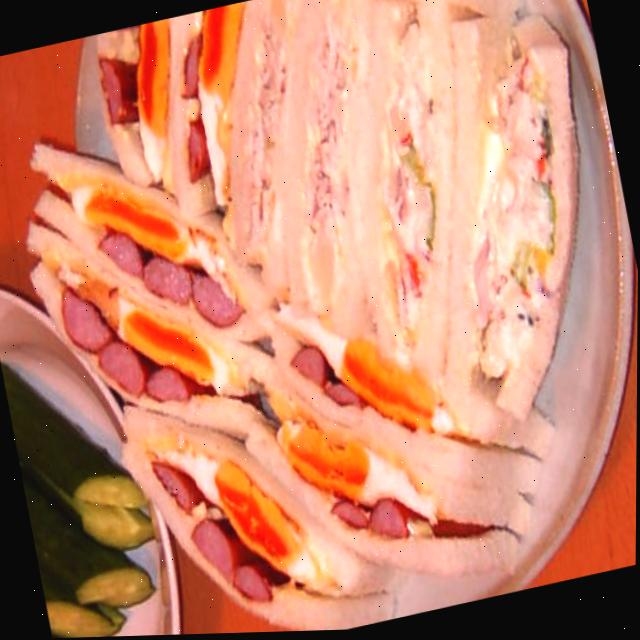三明治: (25, 0, 640, 639)
